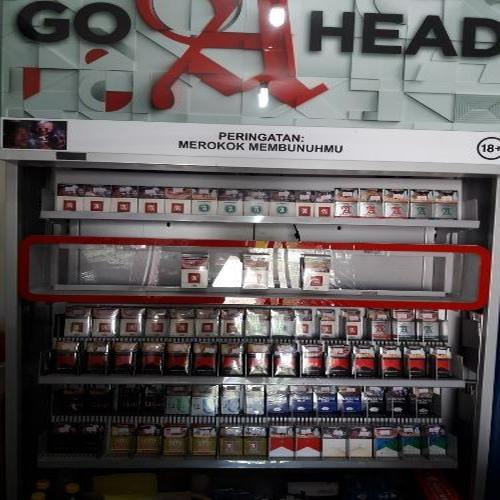A Mild: (306, 270, 326, 291), (140, 198, 162, 214), (185, 270, 204, 288), (114, 199, 135, 213), (60, 197, 79, 212), (87, 199, 107, 213)
U Mild: (193, 396, 218, 416), (222, 397, 240, 415)
